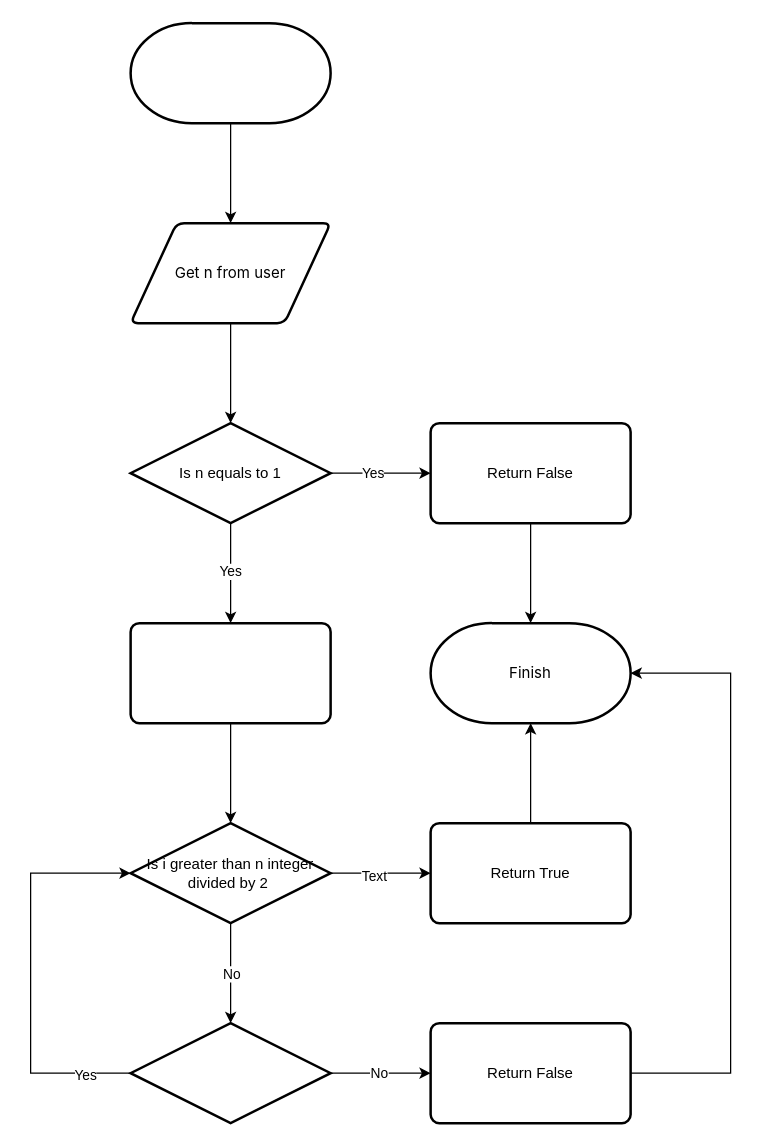
Image size: 763x1145. Some labels were removed from this diagram. Here are the shapes that lost their labels. From the top down, the box of each, then its label:
(129, 21, 331, 124): Start
(129, 621, 331, 724): Set i as 2
(129, 1021, 331, 1124): Is n divisible by i
